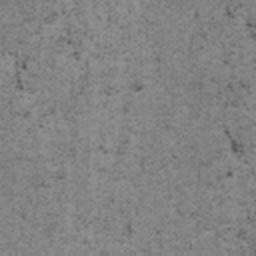Oxide scale of temperature system: (231, 139, 244, 153), (16, 72, 24, 90), (226, 7, 236, 18), (15, 61, 27, 70), (134, 84, 143, 92), (246, 22, 256, 28)
